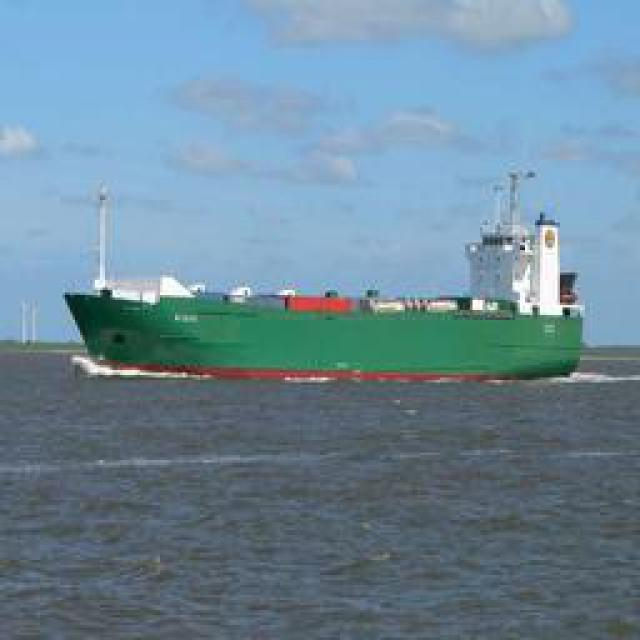Ship: (75, 162, 588, 380)
